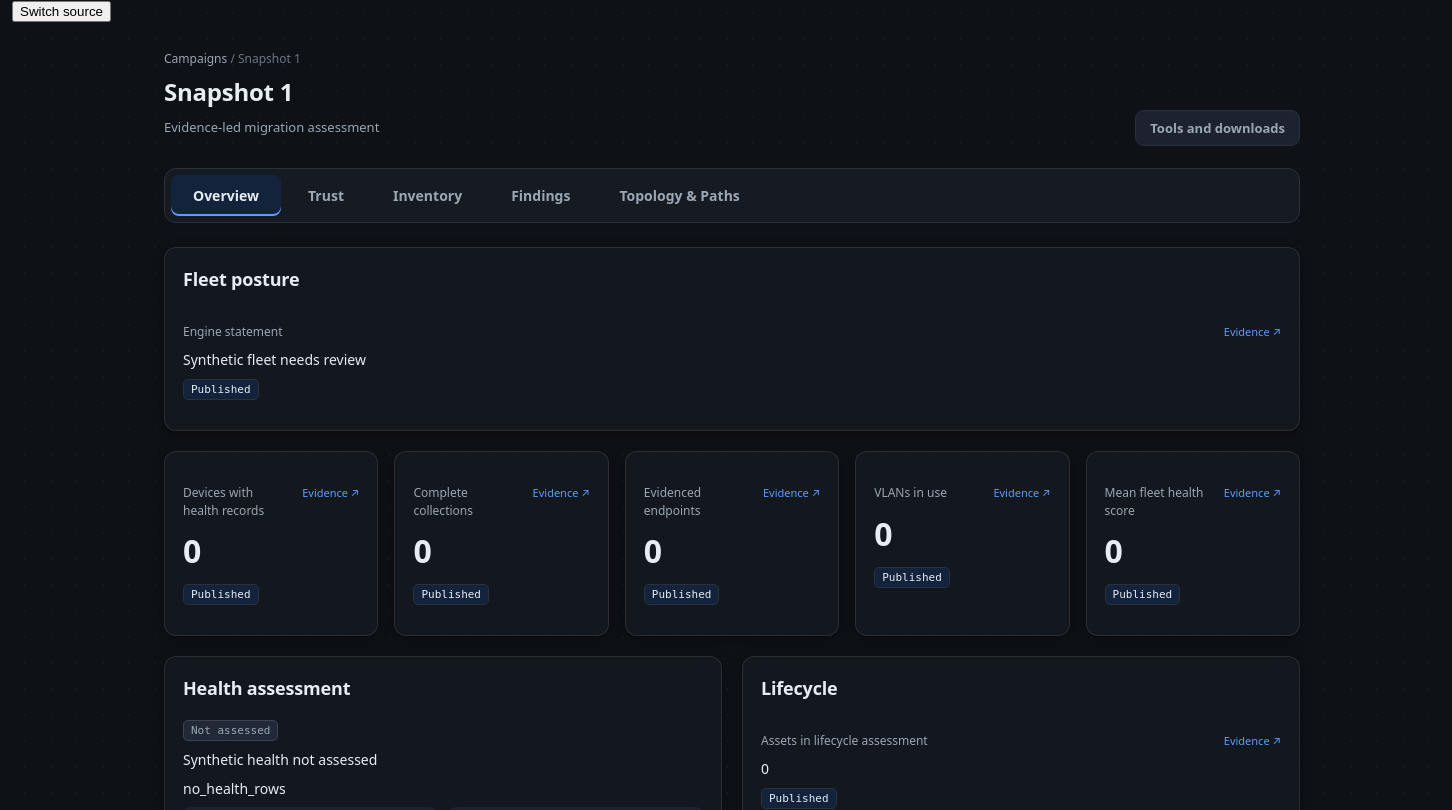
Core snapshot route › opens the fifth Topology & Paths tab through the projection without a legacy graph or snapshot fetch
This screenshot has width=1452, height=810.
Expected: the text "Synthetic fleet needs review" is shown, left=183, top=350, right=366, bottom=368
Click the link "Topology & Paths": [680, 195] box left=619, top=186, right=740, bottom=204
(page scrolled)
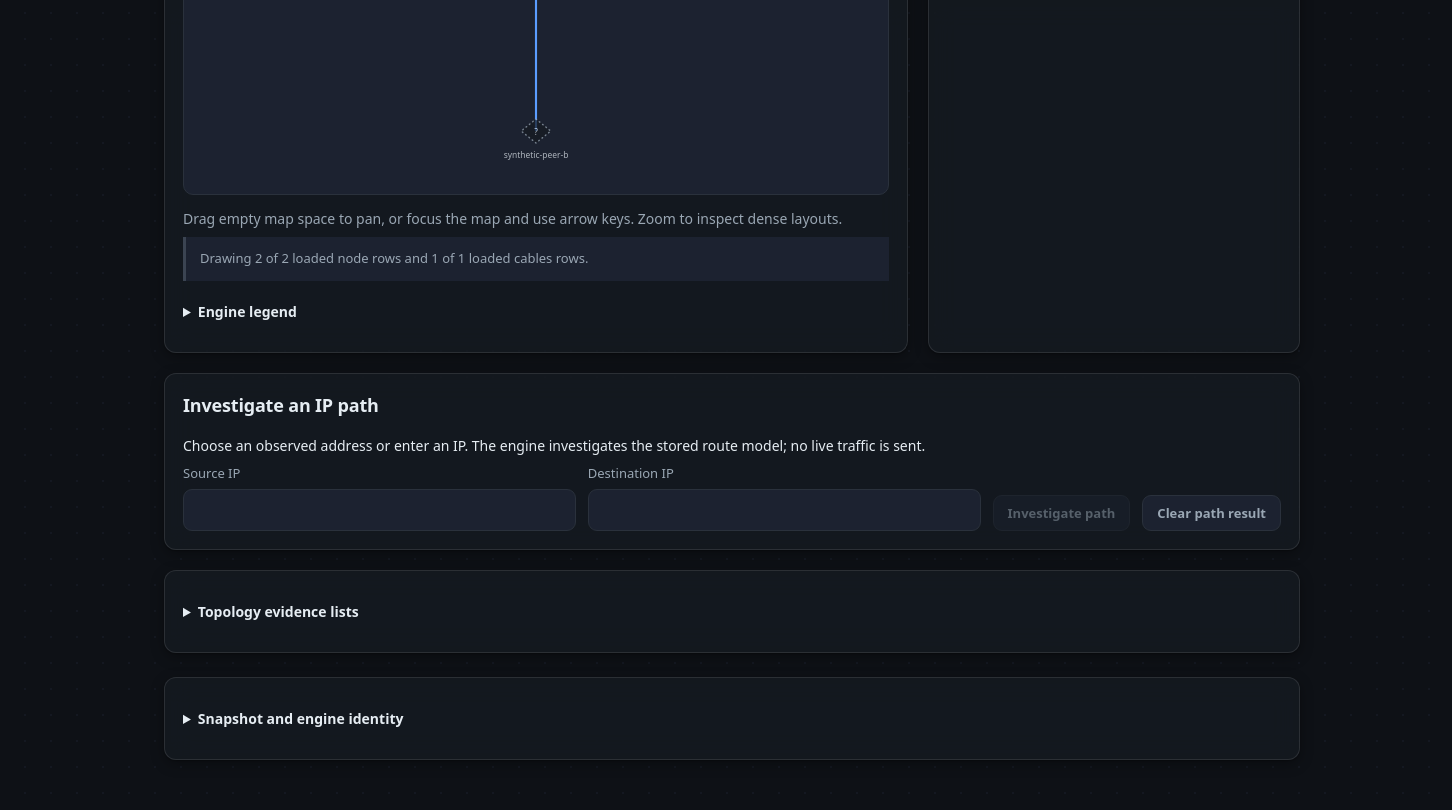
Now the heading "Investigate an IP path" is shown, box left=183, top=393, right=379, bottom=417
